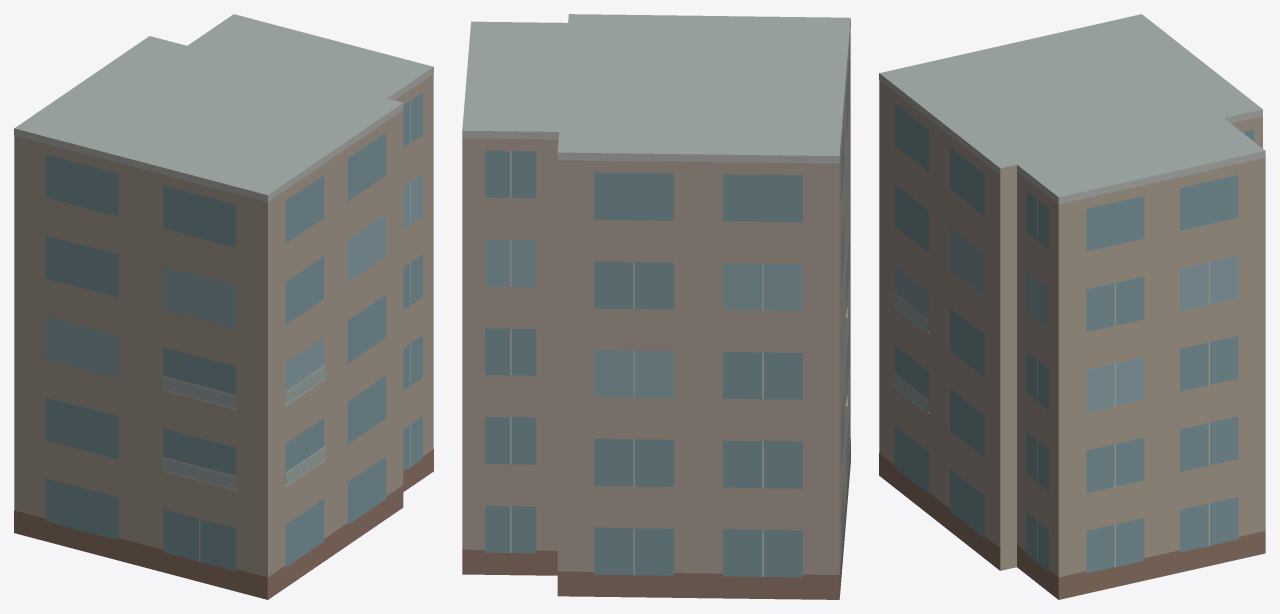
File: survey-upis-32997021.glb
The picture shows the model from 3 angles, left to right: view 1: azimuth 30°, elevation 25°; view 2: azimuth 150°, elevation 25°; view 3: azimuth 270°, elevation 25°; orthographic projection. The views are drawn at different scales.
Parts seen in each view (by area): view 1: survey-upis-32997021.tmp; view 2: survey-upis-32997021.tmp; view 3: survey-upis-32997021.tmp.
Boxes of the visible parts, x1,y1,x2,y2 form: survey-upis-32997021.tmp: (14, 14, 433, 599); survey-upis-32997021.tmp: (462, 14, 850, 599); survey-upis-32997021.tmp: (879, 14, 1265, 599).
Bounding box in the file's own units: 13.88 × 14.2 × 12.36.
